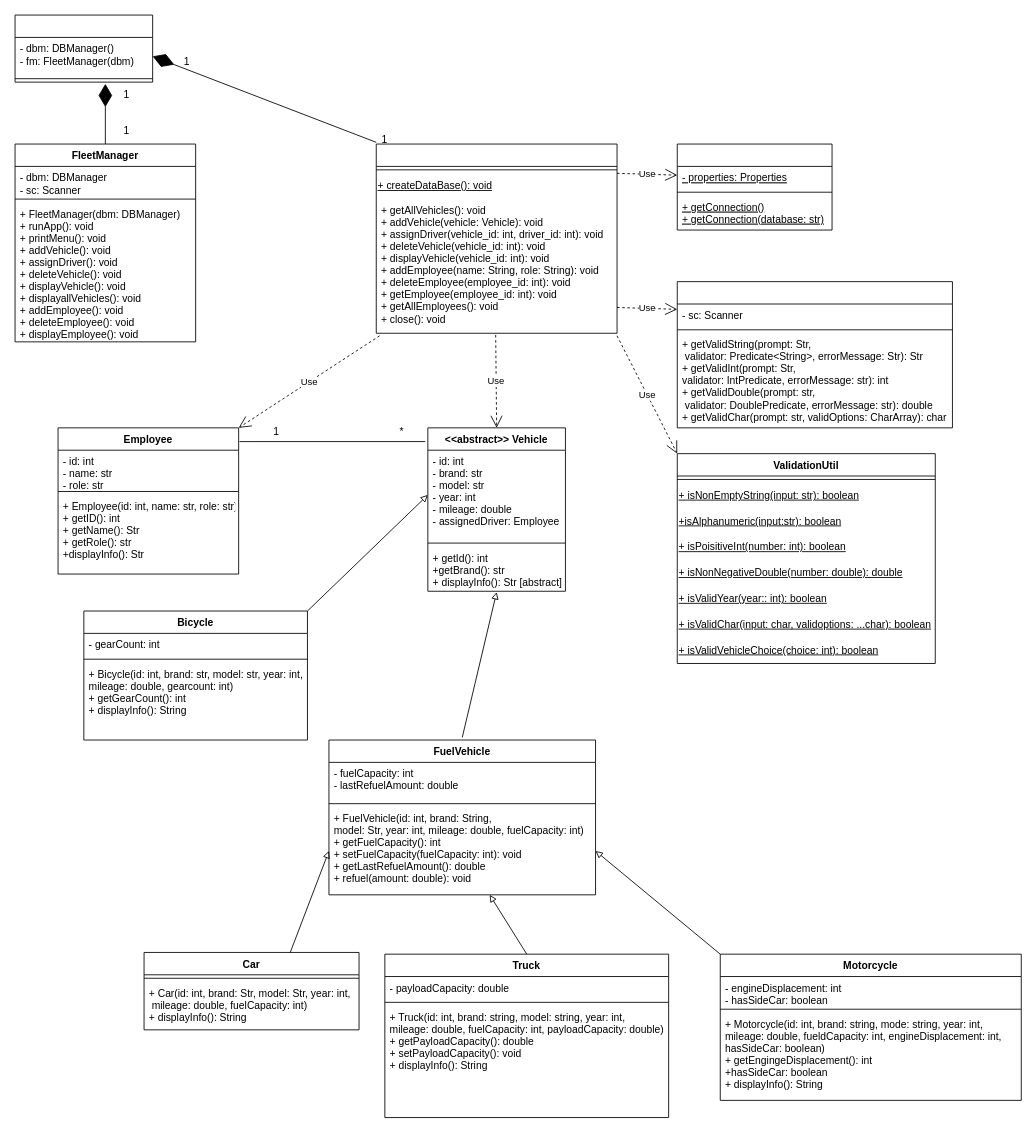
Some shapes in this 1036 by 1135 pixel diagram are drawn without their labels. Here are the shapes that lost their labels. From the top down, the box of each, then its label:
(14, 14, 153, 82): FleetManagerApp
(676, 143, 832, 230): DBConnection
(375, 143, 617, 333): DBManager
(676, 281, 952, 428): InputHelper
